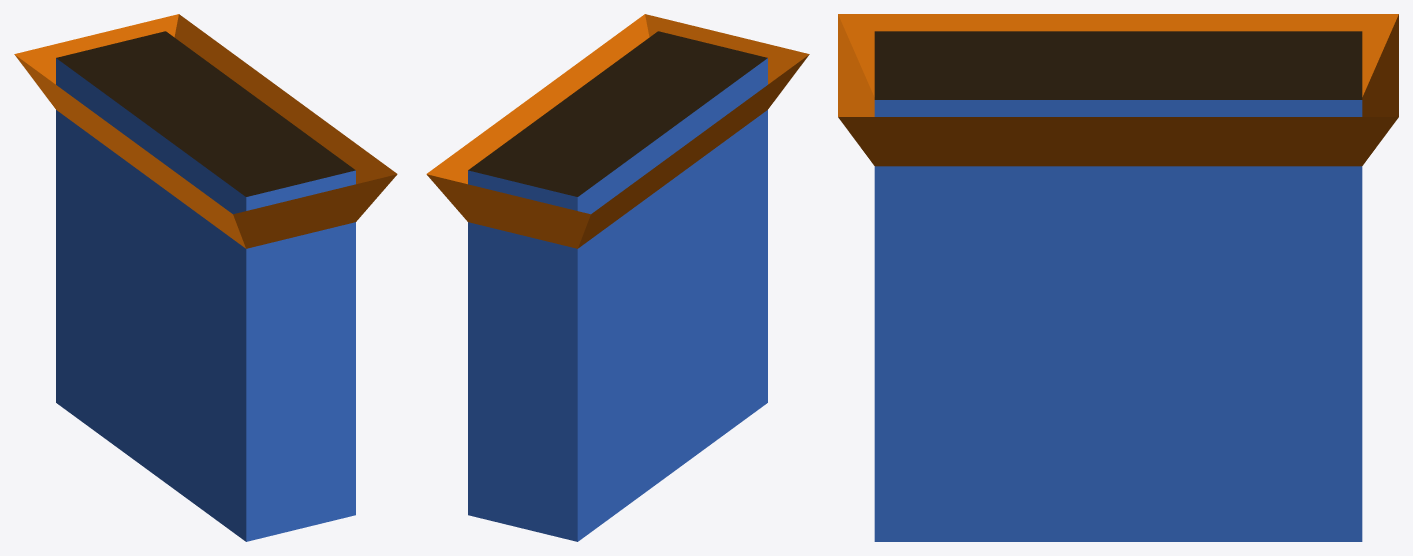
File: walls_type_16.glb
3 renders of one model, left to right at view 1: azimuth 30°, elevation 25°; view 2: azimuth 150°, elevation 25°; view 3: azimuth 270°, elevation 25°, orthographic. The views are drawn at different scales.
Visible parts, largest first — view 1: Type_16; view 2: Type_16; view 3: Type_16.
Part boxes in pixels (x1,y1,x2,y2): Type_16: [14, 14, 397, 541]; Type_16: [426, 14, 809, 541]; Type_16: [838, 14, 1398, 541].
Bounding box in the file's own units: 0.5 × 1 × 1.15.
